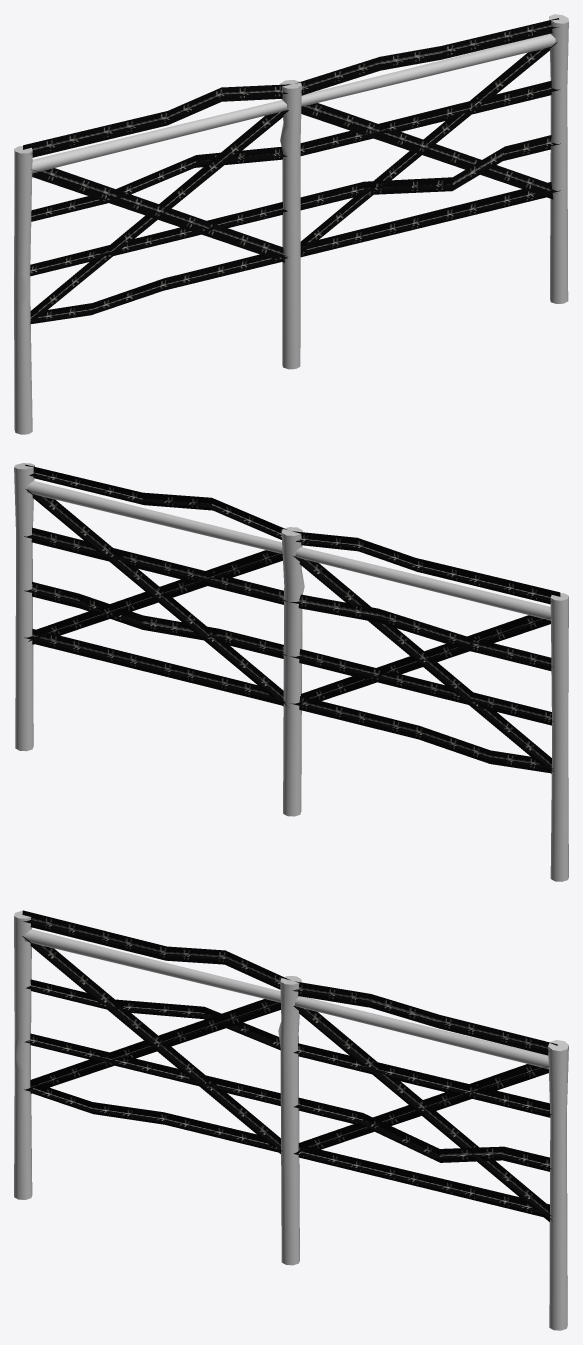
File: Barbed_fence.fbx
The picture shows the model from 3 angles, top to bottom: view 1: azimuth 30°, elevation 25°; view 2: azimuth 150°, elevation 25°; view 3: azimuth 330°, elevation 25°; orthographic projection.
Visible parts, largest first — view 1: polySurface135; view 2: polySurface135; view 3: polySurface135.
Part boxes in pixels (x1,y1,x2,y2): polySurface135: (14,14,568,434); polySurface135: (14,463,568,881); polySurface135: (14,910,568,1330).
Bounding box in the file's own units: 3 × 1.52 × 0.1719.
